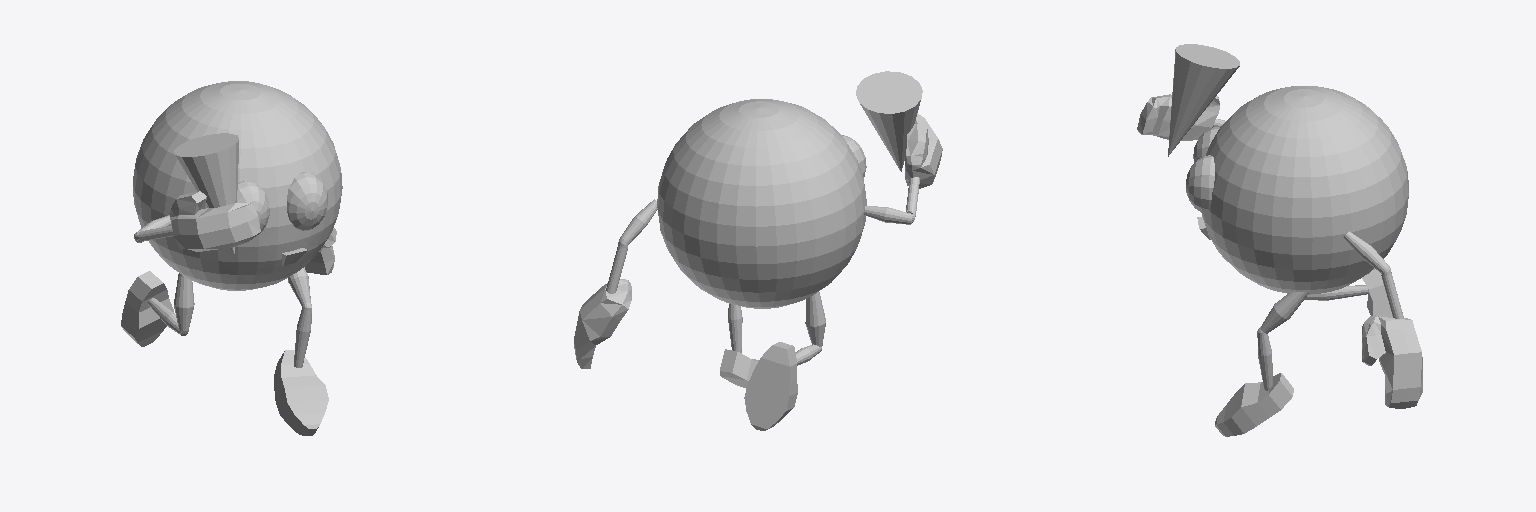
The model's file is runToStand_000017.obj.
3 views of the same model, side by side, from view 1: azimuth 30°, elevation 25°; view 2: azimuth 150°, elevation 25°; view 3: azimuth 270°, elevation 25° (orthographic).
Visible parts, largest first — view 1: Rusko_Sphere; view 2: Rusko_Sphere; view 3: Rusko_Sphere.
Part boxes in pixels (x1,y1,x2,y2): Rusko_Sphere: (121, 81, 342, 435); Rusko_Sphere: (574, 71, 942, 430); Rusko_Sphere: (1137, 44, 1422, 436).
Size of the model in its own units: 5.89 by 6.95 by 5.45.